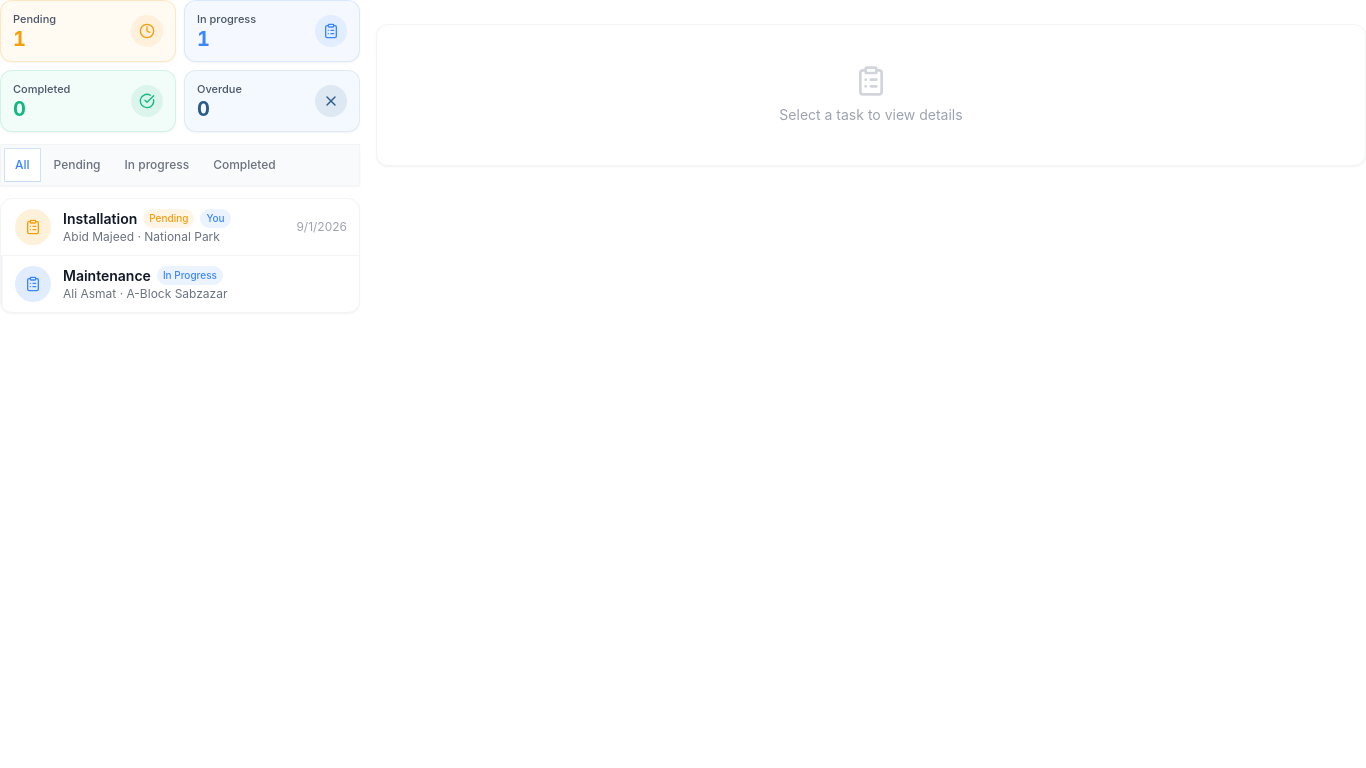
Scenario: PortalTasks › renders task details inline in the desktop panel, not only in the mobile sheet
Check: the text "Select a task to view details" is shown, box [779,105,963,125]
Click the text "Installation". click: (100, 218)
box: [63,208,137,228]
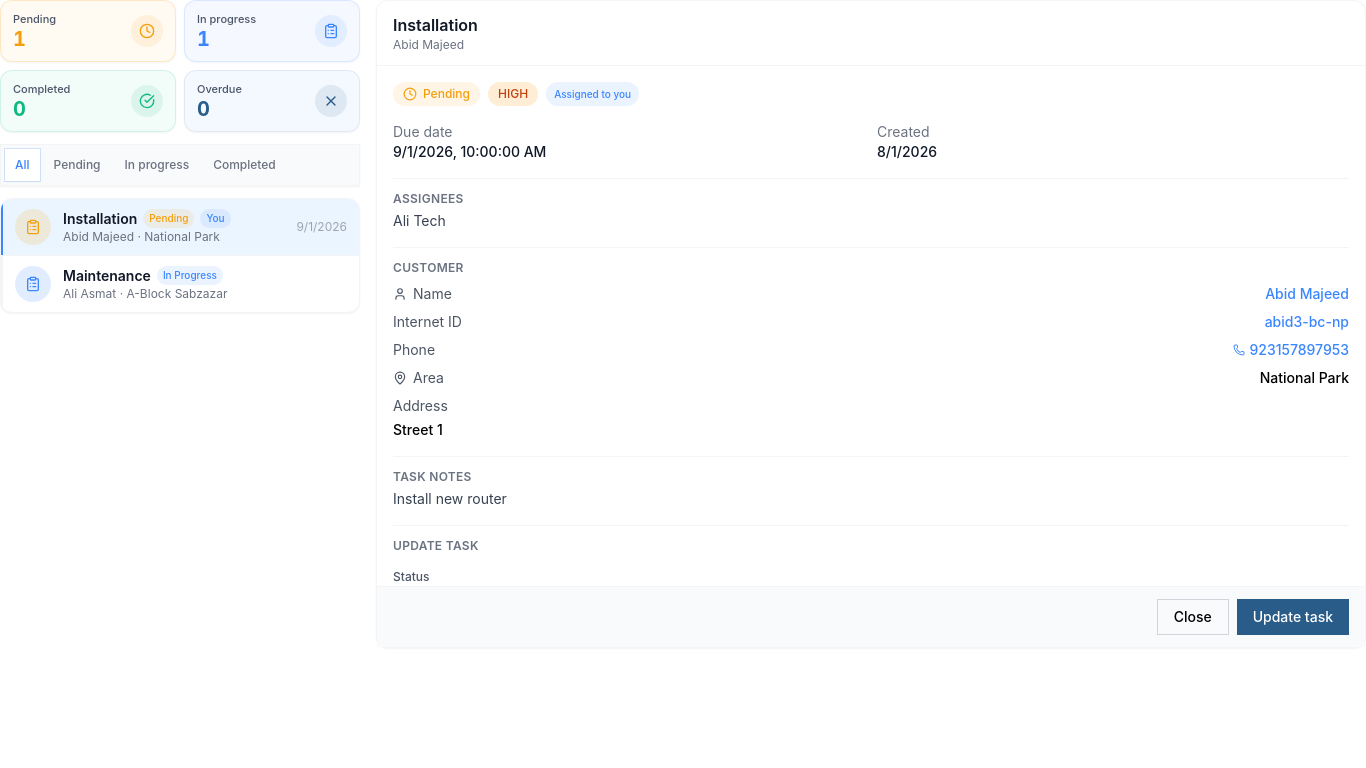
Check: the text "Select a task to view details" is gone
